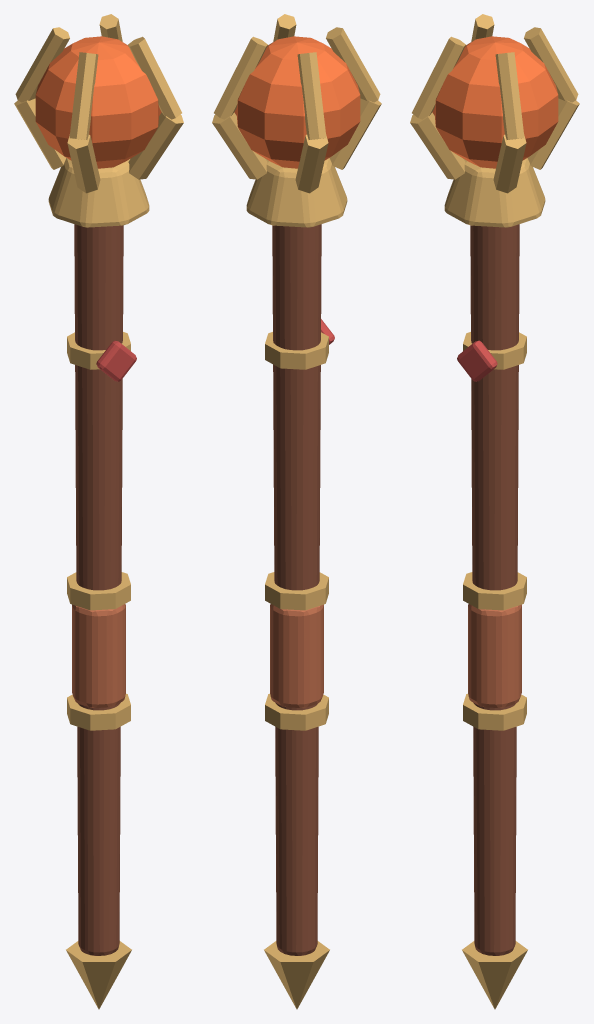
The model's file is weapon-staff.glb.
3 views of the same model, side by side, from view 1: azimuth 30°, elevation 25°; view 2: azimuth 150°, elevation 25°; view 3: azimuth 330°, elevation 25° (orthographic).
Parts seen in each view (by area): view 1: weapon-staff, orb; view 2: weapon-staff, orb; view 3: weapon-staff, orb.
Boxes of the visible parts, x1=… form: weapon-staff: x1=14, y1=14, x2=183, y2=1009; orb: x1=35, y1=36, x2=161, y2=168; weapon-staff: x1=212, y1=14, x2=381, y2=1009; orb: x1=234, y1=36, x2=360, y2=168; weapon-staff: x1=410, y1=14, x2=579, y2=1009; orb: x1=432, y1=36, x2=558, y2=168.
Bounding box in the file's own units: 0.1192 × 0.974 × 0.1192.
1 material, 1 textured.
